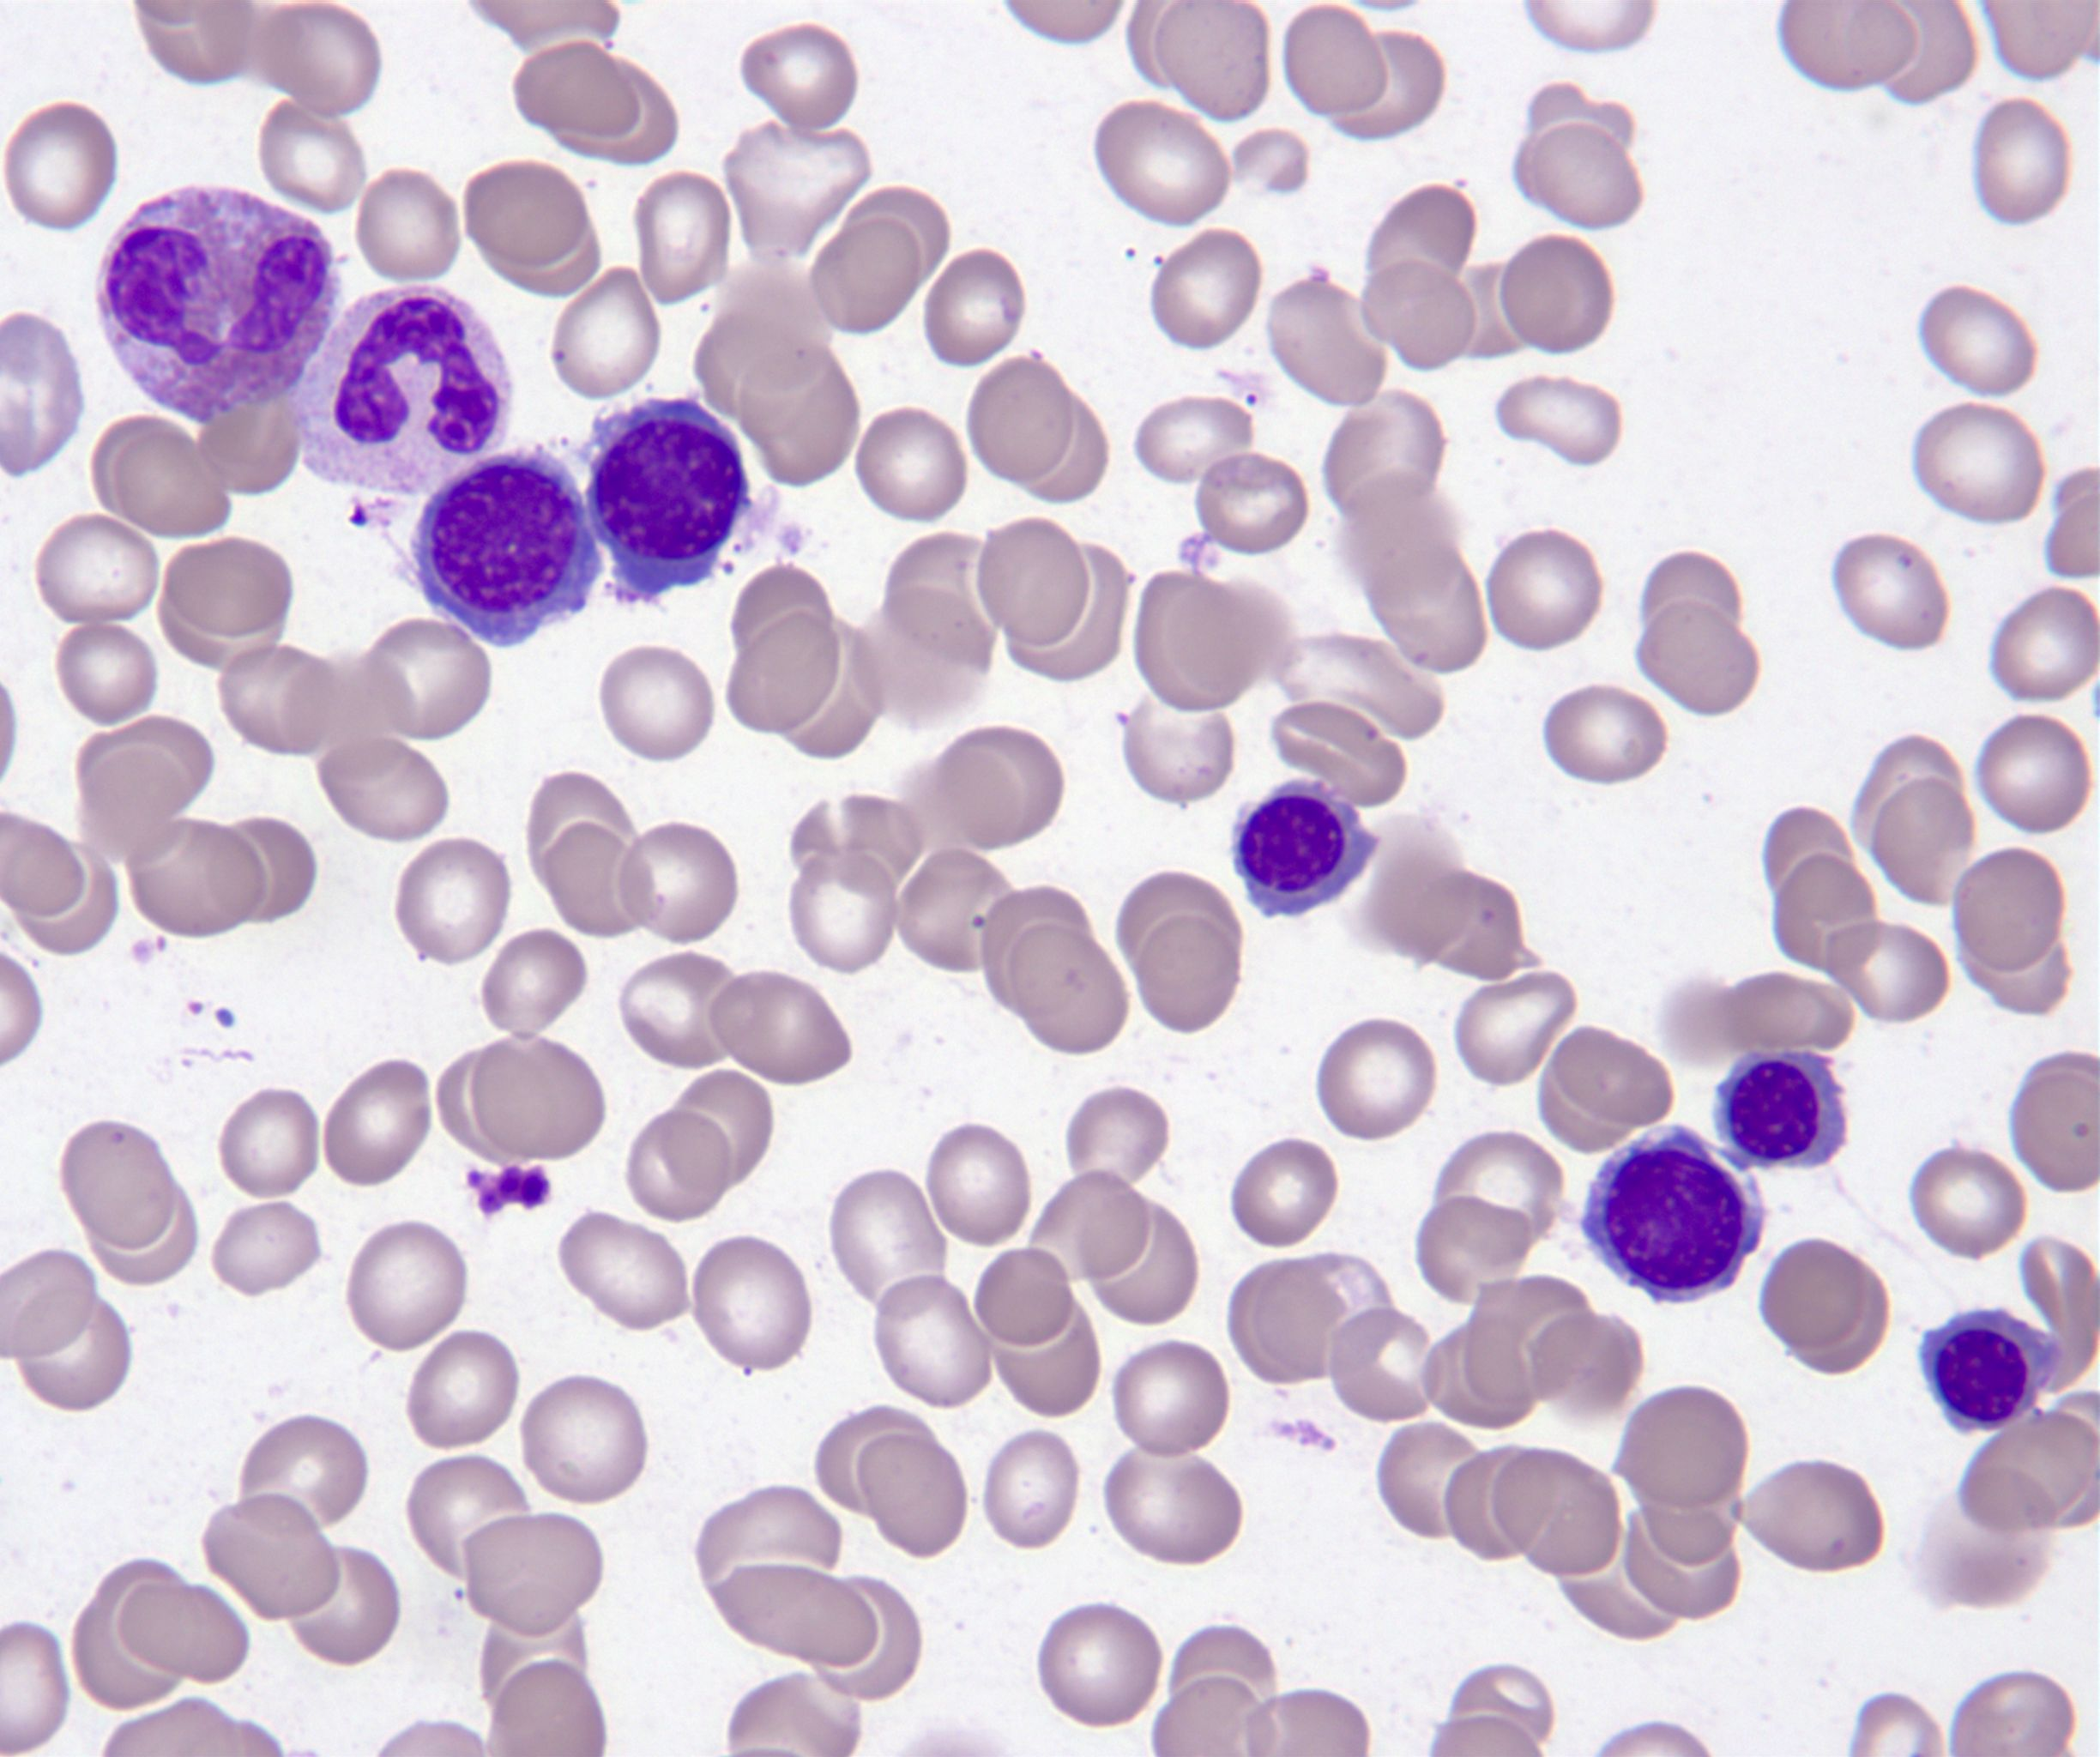23: (412, 448, 603, 649), (1575, 1127, 1763, 1307), (584, 398, 747, 604)
24: (1231, 780, 1378, 921), (1920, 1310, 2058, 1431), (1713, 1050, 1845, 1169)
5: (302, 286, 513, 490)
E4: (101, 187, 344, 426)
